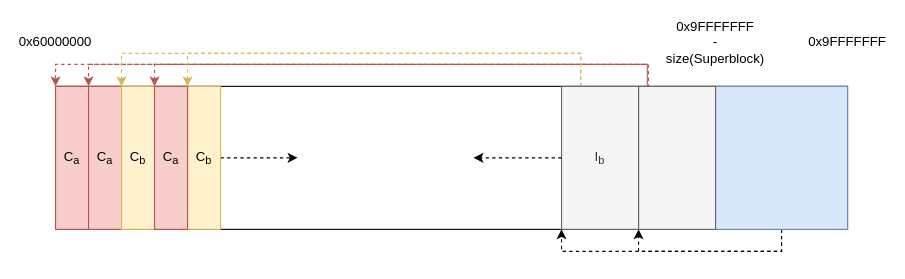
Some shapes in this 905 by 279 pixel diagram are drawn without their labels. Each missing label, with the centre of its shape:
"I a" belongs at point 676,157.
"Superblock" belongs at point 781,157.
